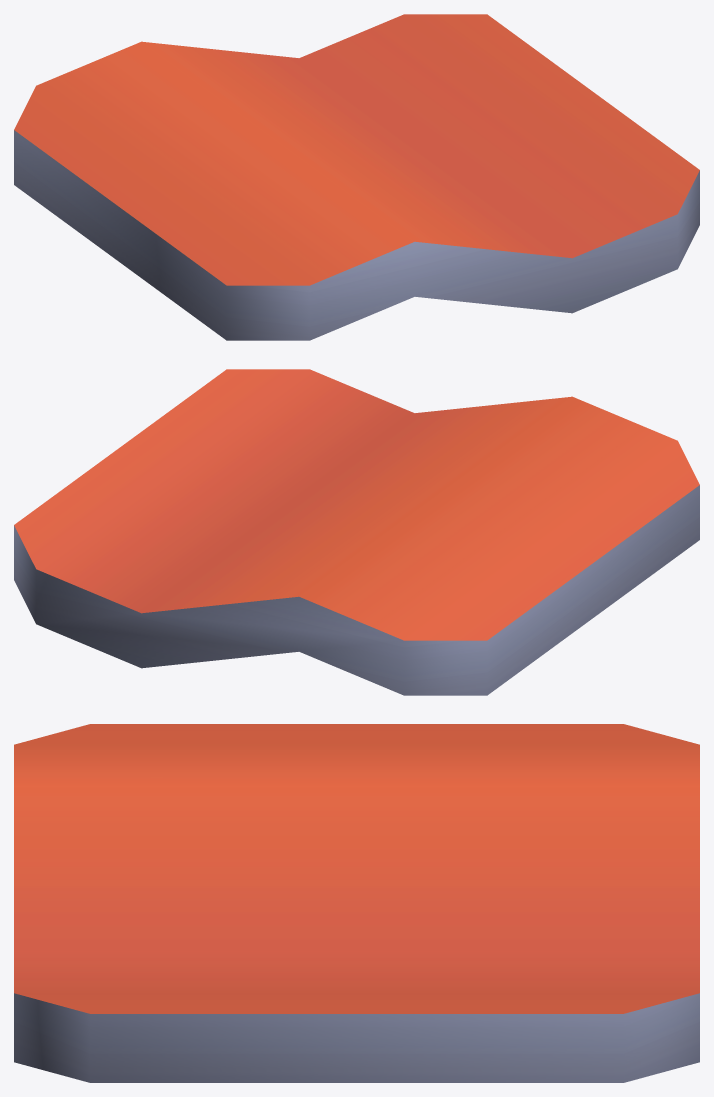
The model's file is debris-plate-b.glb.
3 renders of one model, top to bottom at view 1: azimuth 30°, elevation 25°; view 2: azimuth 150°, elevation 25°; view 3: azimuth 270°, elevation 25°, orthographic. The views are drawn at different scales.
Visible parts, largest first — view 1: debris-plate-b; view 2: debris-plate-b; view 3: debris-plate-b.
Part boxes in pixels (x1,y1,x2,y2): debris-plate-b: (14,14,699,340); debris-plate-b: (14,369,699,695); debris-plate-b: (14,724,699,1082).
Size of the model in its own units: 0.9 by 0.2 by 0.9.
1 material, 1 textured.
